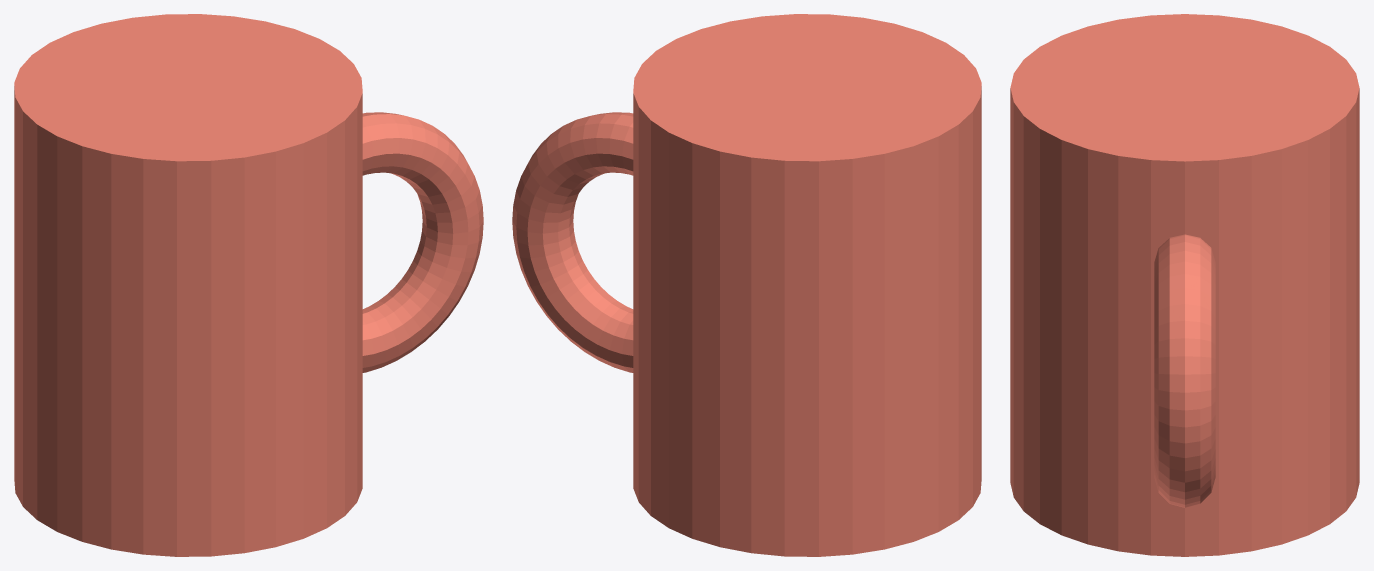
File: mug.glb
The picture shows the model from 3 angles, left to right: view 1: azimuth 30°, elevation 25°; view 2: azimuth 150°, elevation 25°; view 3: azimuth 270°, elevation 25°; orthographic projection.
Visible parts, largest first — view 1: mug; view 2: mug; view 3: mug.
Boxes of the visible parts, left/top/right/bottom form: mug: left=14, top=14, right=483, bottom=556; mug: left=512, top=14, right=981, bottom=556; mug: left=1010, top=14, right=1359, bottom=556.
Size of the model in its own units: 0.117 by 0.1 by 0.08.
